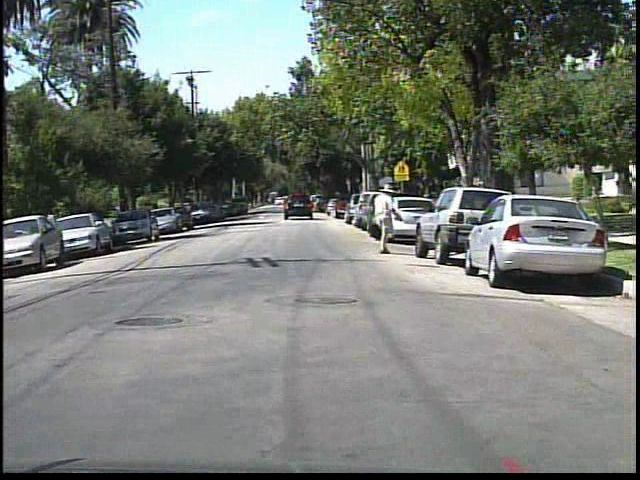person: (360, 184, 404, 258)
